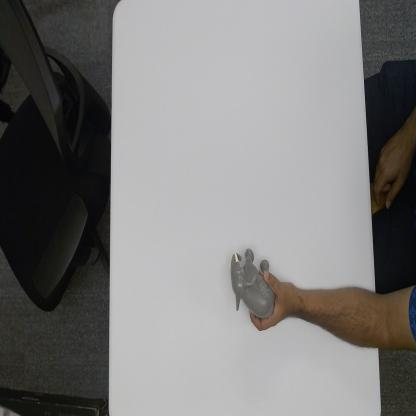Arm: (297, 282, 378, 350)
Elephant: (230, 243, 276, 321)
Hand: (250, 269, 295, 332)
